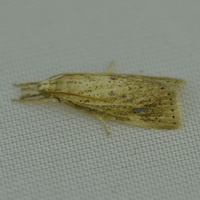insect: (13, 72, 184, 134)
